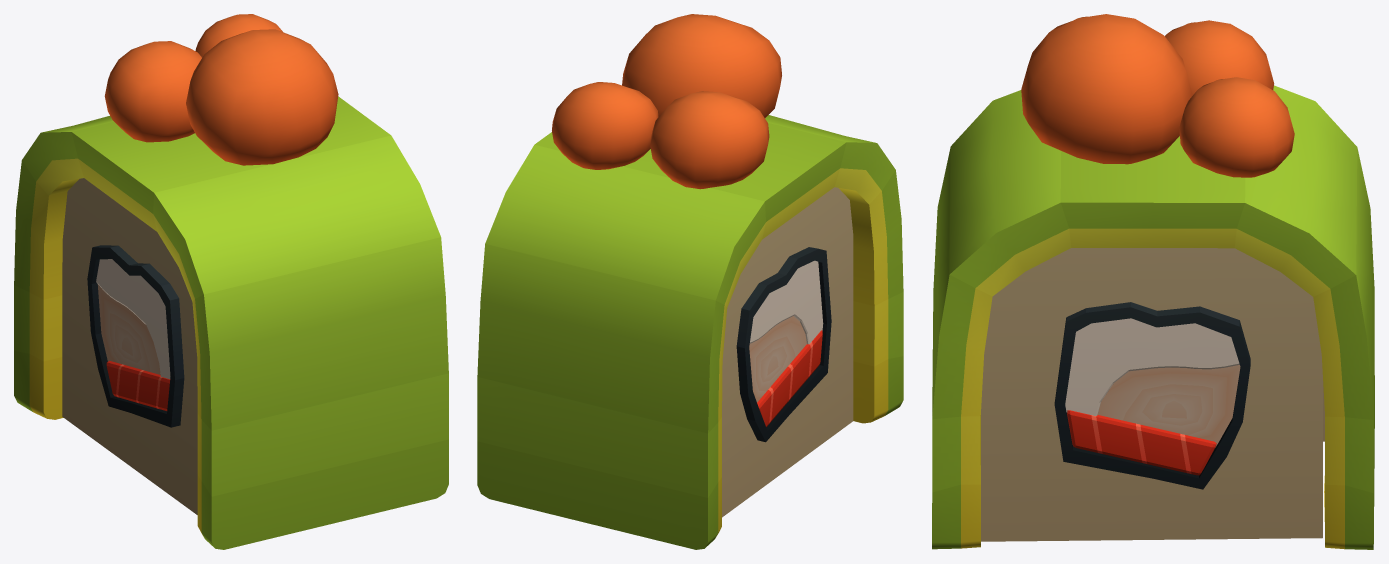
File: sushi_green.fbx
The picture shows the model from 3 angles, left to right: view 1: azimuth 30°, elevation 25°; view 2: azimuth 150°, elevation 25°; view 3: azimuth 270°, elevation 25°; orthographic projection. The views are drawn at different scales.
Parts seen in each view (by area): view 1: sushi_green; view 2: sushi_green; view 3: sushi_green.
Part boxes in pixels (<box>): sushi_green: <box>14,14,448,549</box>; sushi_green: <box>477,14,903,549</box>; sushi_green: <box>932,14,1374,549</box>.
Size of the model in its own units: 1.11 by 1.91 by 1.61.
